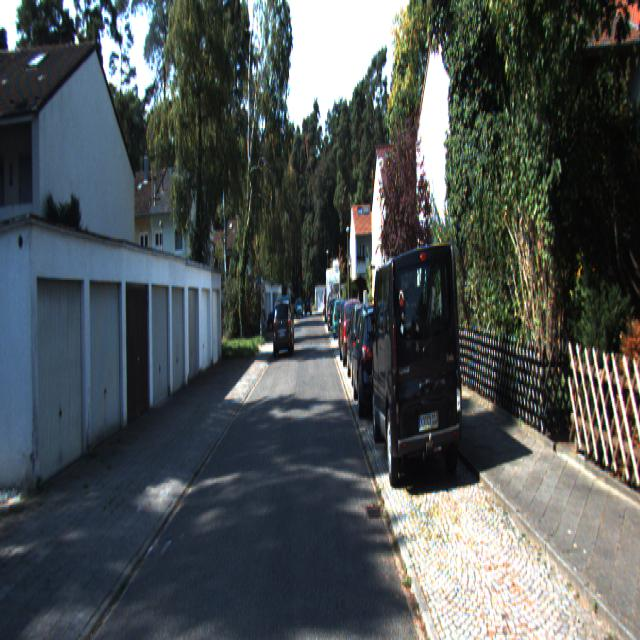Car: (368, 239, 465, 495), (351, 298, 399, 417), (346, 297, 380, 382), (338, 300, 364, 370), (273, 296, 294, 354), (325, 264, 340, 323)
